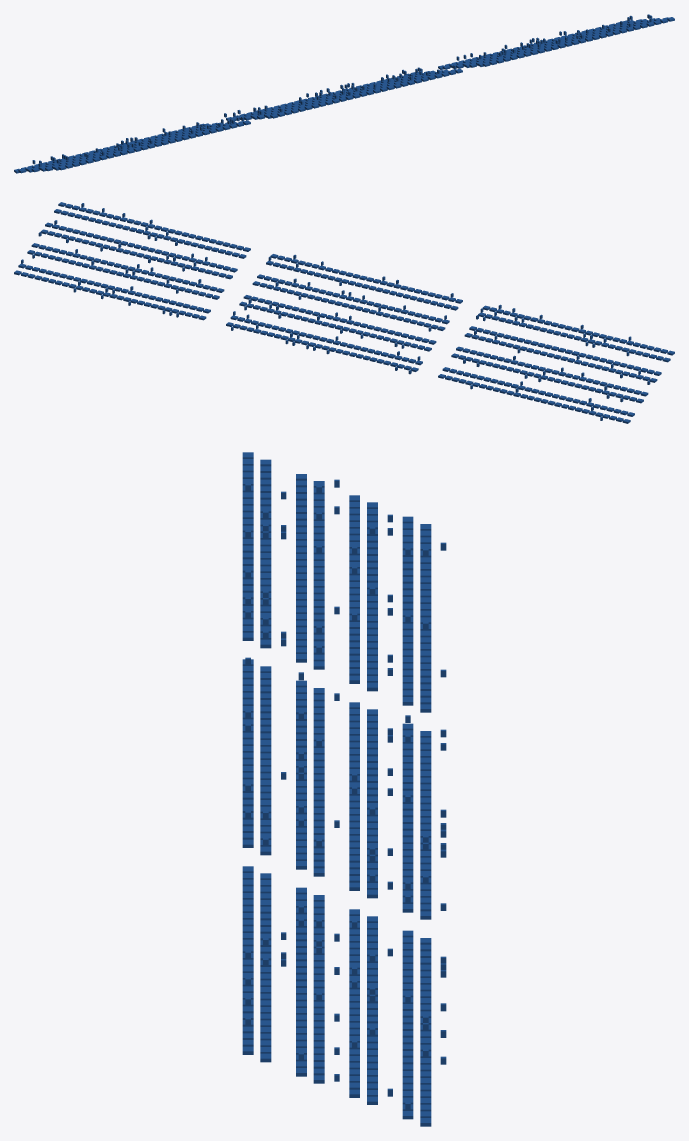
The model's file is SM_DK_05_Grandstand_steps_seating_and_crowd_blue.fbx.
3 views of the same model, one above another, from view 1: azimuth 30°, elevation 25°; view 2: azimuth 150°, elevation 25°; view 3: azimuth 270°, elevation 25° (orthographic). The views are drawn at different scales.
Parts seen in each view (by area): view 1: 05 Grandstand steps seating and crowd | blue; view 2: 05 Grandstand steps seating and crowd | blue; view 3: 05 Grandstand steps seating and crowd | blue.
Part boxes in pixels (x1=…): 05 Grandstand steps seating and crowd | blue: x1=14, y1=14, x2=674, y2=173; 05 Grandstand steps seating and crowd | blue: x1=14, y1=202, x2=674, y2=423; 05 Grandstand steps seating and crowd | blue: x1=242, y1=452, x2=446, y2=1126.
Size of the model in its own units: 7179 by 1031 by 477.
